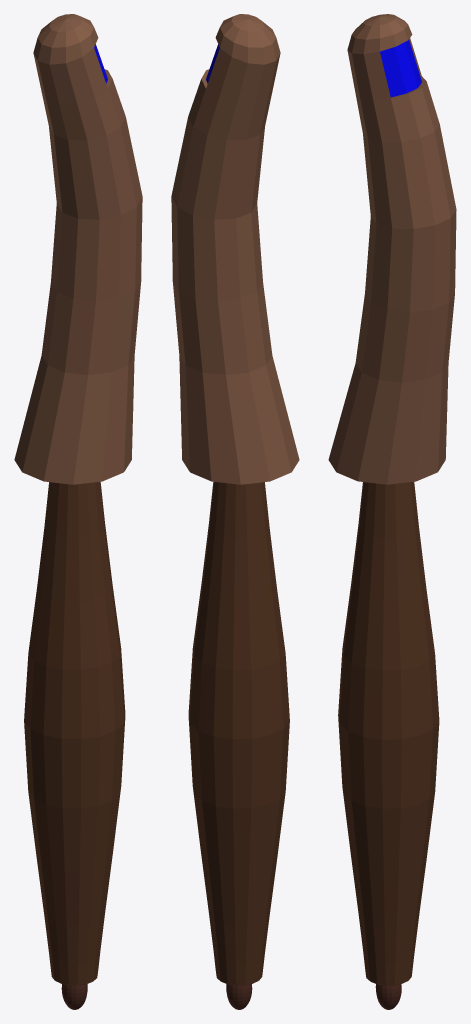
Rendered from Wand 146.glb.
3 renders of one model, left to right at view 1: azimuth 30°, elevation 25°; view 2: azimuth 150°, elevation 25°; view 3: azimuth 330°, elevation 25°, orthographic.
Parts seen in each view (by area): view 1: GeneratedWand; view 2: GeneratedWand; view 3: GeneratedWand.
Part boxes in pixels (x1=…): GeneratedWand: x1=14, y1=14, x2=142, y2=1009; GeneratedWand: x1=171, y1=14, x2=299, y2=1009; GeneratedWand: x1=328, y1=14, x2=456, y2=1009.
Bounding box in the file's own units: 0.0644 × 0.5326 × 0.0572.
